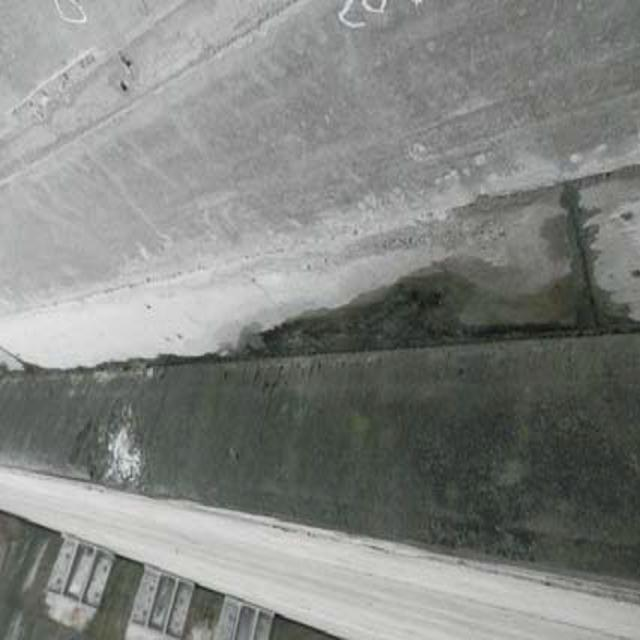leakage: (41, 240, 616, 547)
